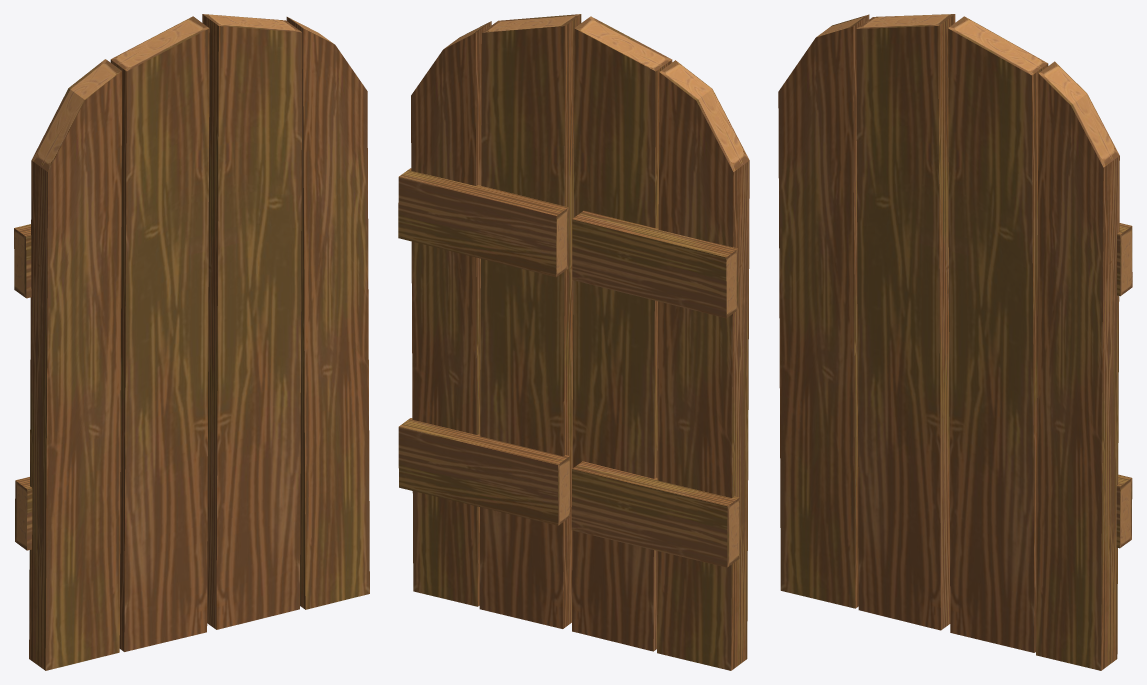
Rendered from WindowShutters_Thin_Round_Closed.gltf.
3 views of the same model, side by side, from view 1: azimuth 30°, elevation 25°; view 2: azimuth 150°, elevation 25°; view 3: azimuth 330°, elevation 25° (orthographic).
Parts seen in each view (by area): view 1: WindowShutters_Thin_Round_Closed; view 2: WindowShutters_Thin_Round_Closed; view 3: WindowShutters_Thin_Round_Closed.
Part boxes in pixels (box(x1,y1,x2,y2)): WindowShutters_Thin_Round_Closed: box(14, 14, 369, 670); WindowShutters_Thin_Round_Closed: box(398, 14, 749, 670); WindowShutters_Thin_Round_Closed: box(778, 14, 1132, 670).
Size of the model in its own units: 0.8674 by 1.52 by 0.1358.
Materials: 1 (1 with a texture image).
